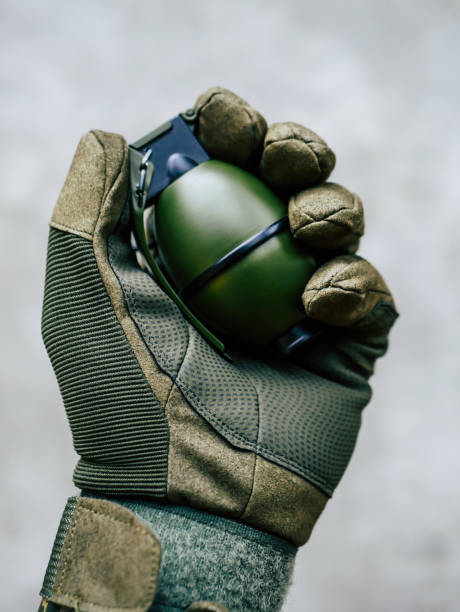e1: (121, 109, 327, 362)
